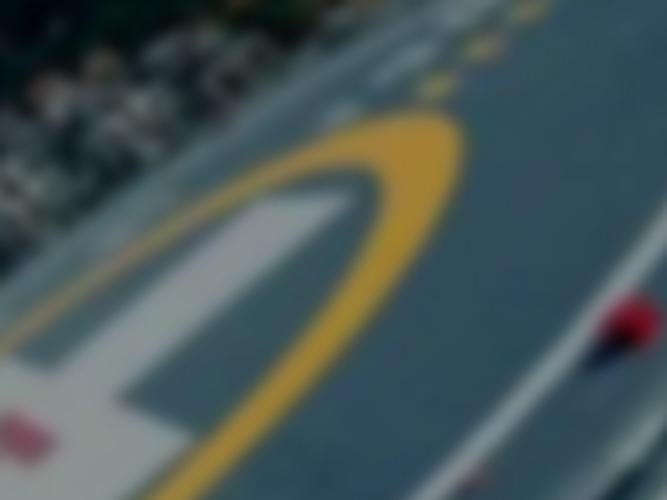Apron: (2, 106, 473, 498)
